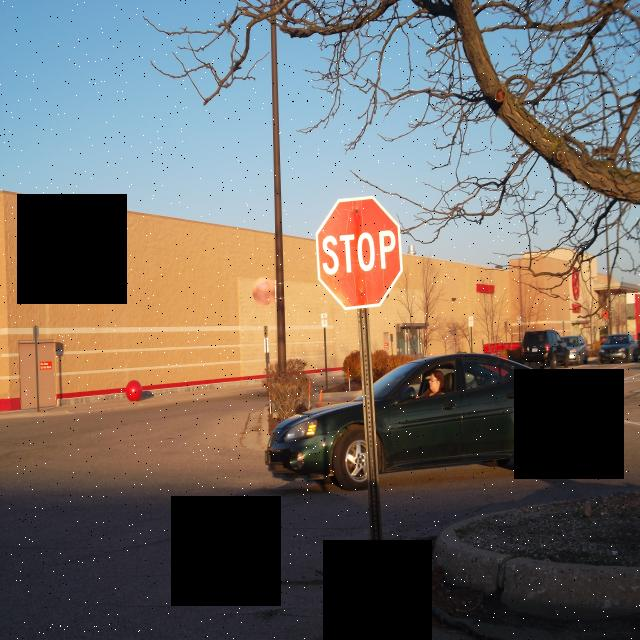stop: (314, 195, 406, 312)
